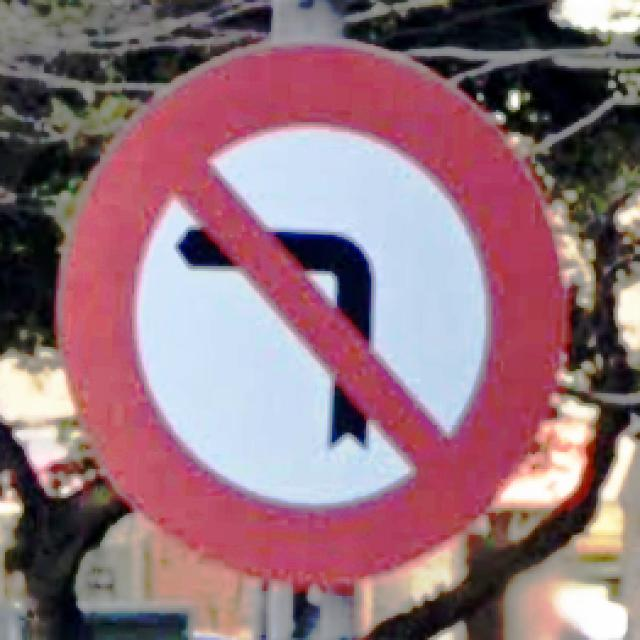noturnleft: (54, 39, 569, 591)
